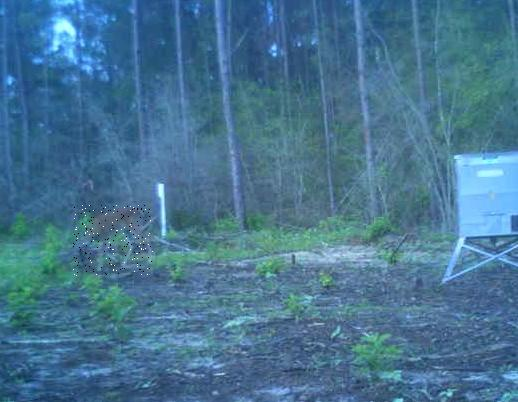Deer: (71, 206, 152, 277)
